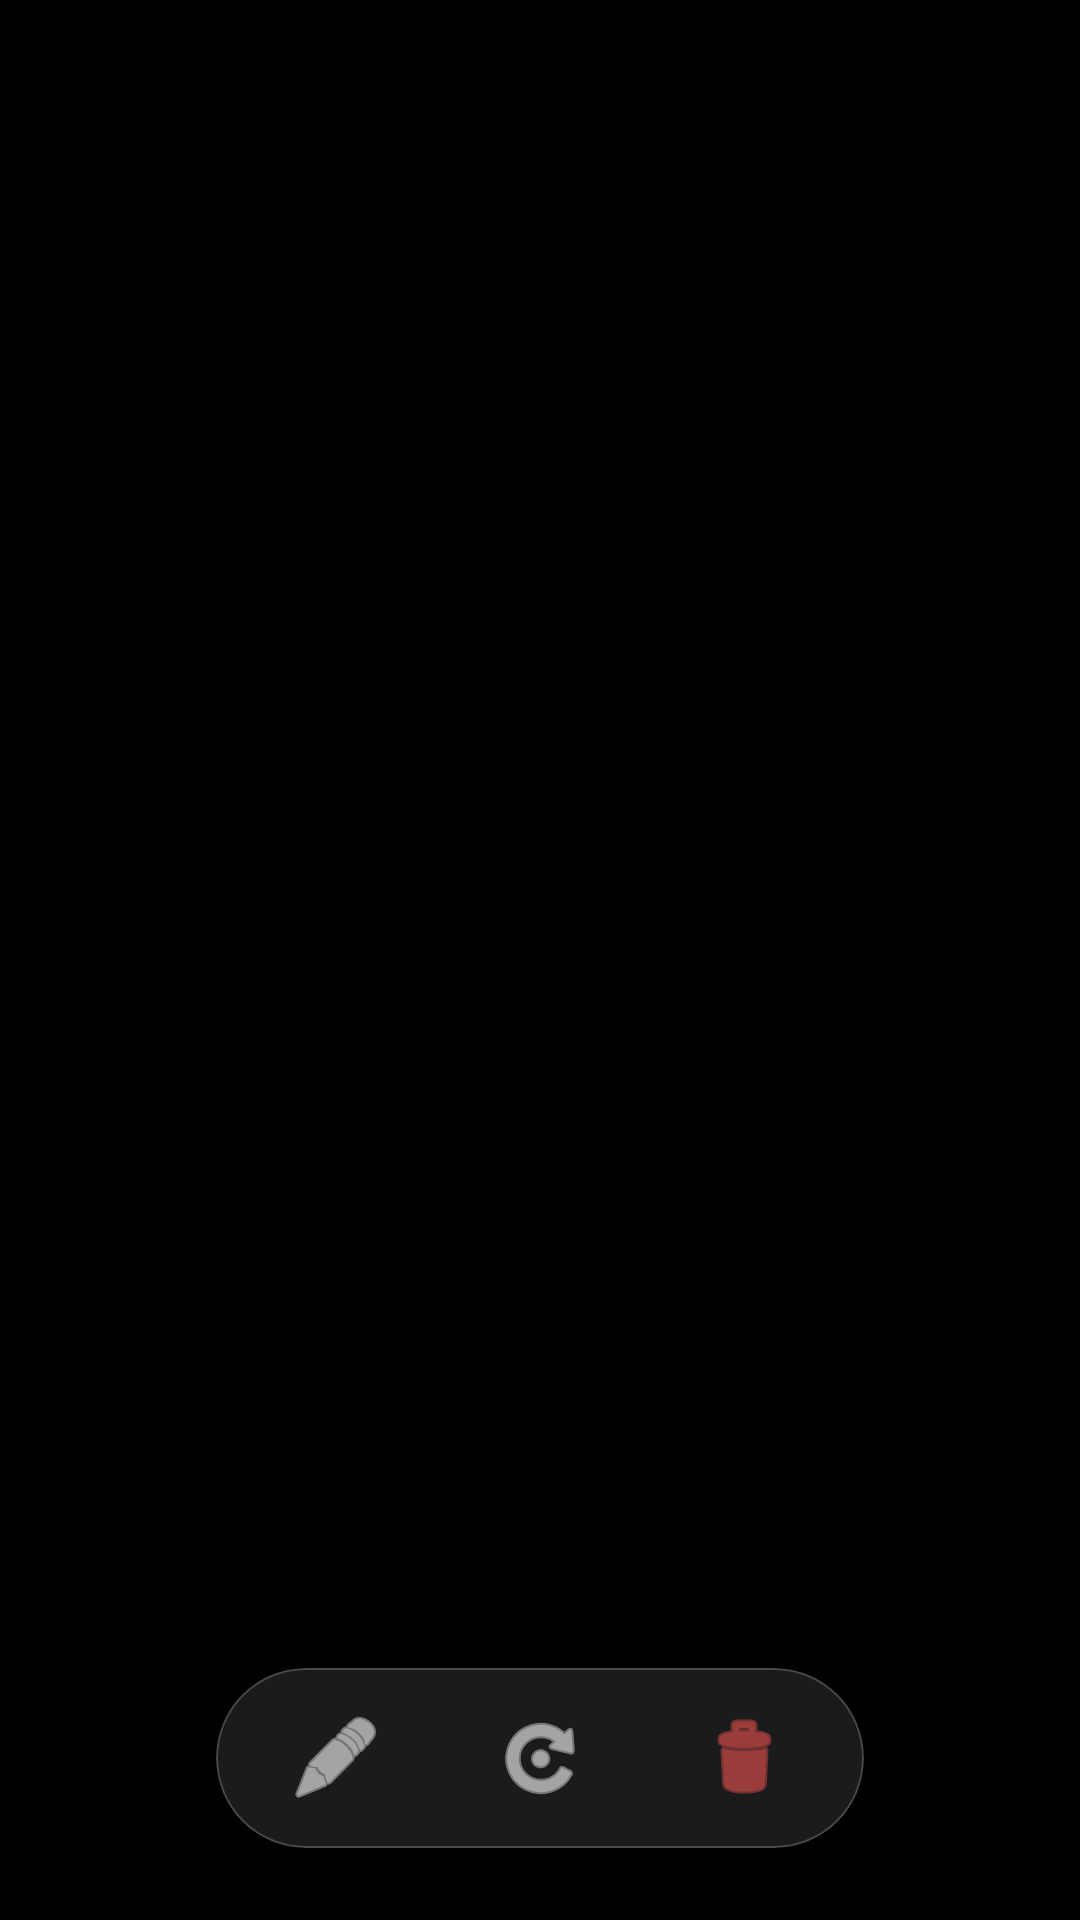

Point at icon controls on the screen. Image size 1080*1920, points as [x,y].
Delete: [744,1756]
Edit: [335,1757]
Rotate: [540,1758]
